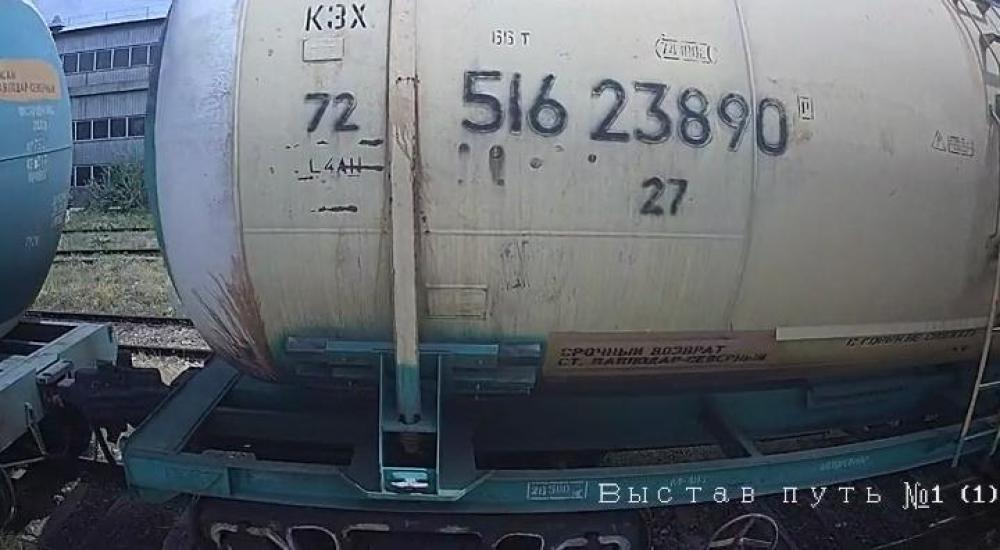Wagon-number: (456, 63, 795, 161)
